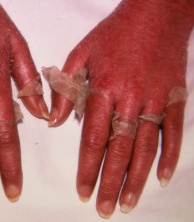SJS-TEN: (34, 0, 194, 173), (0, 3, 47, 146)
